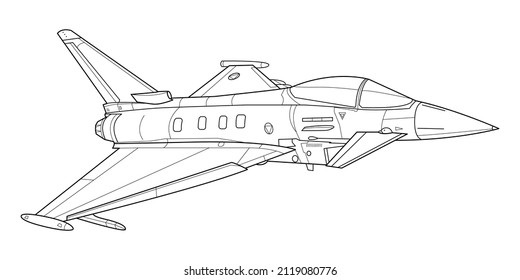airplane: (19, 27, 502, 234)
